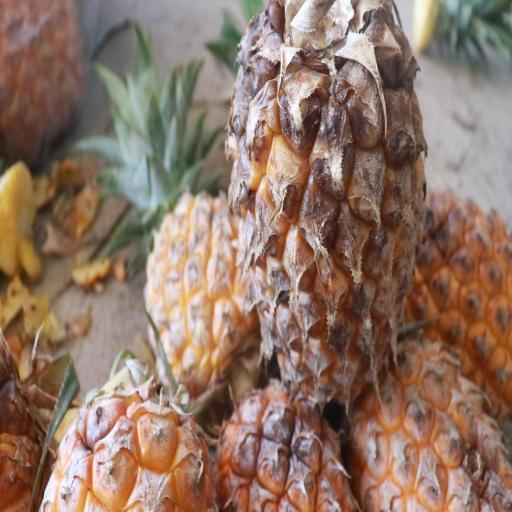Pineapple - v8 v1: (220, 0, 427, 411), (142, 80, 270, 394), (334, 333, 510, 512), (28, 371, 210, 512), (200, 356, 340, 512)
